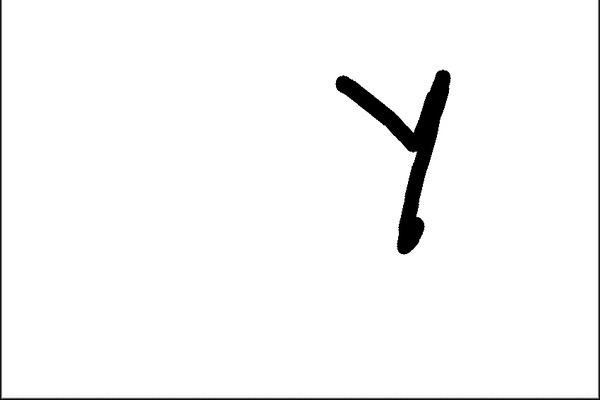Y: (320, 61, 457, 259)
